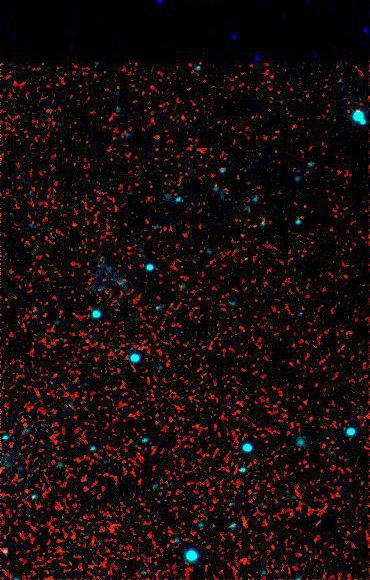star: (0, 534, 22, 564)
